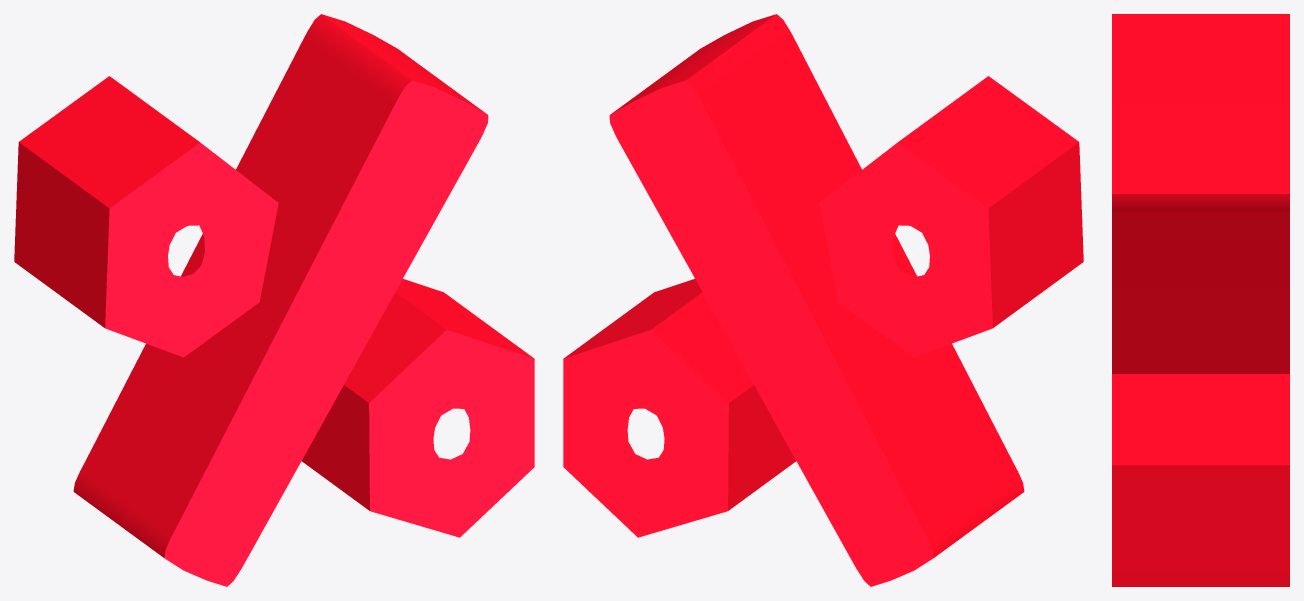
File: 8c227ffc-9638-4594-9116-ac35d3e603d8.glb
3 renders of one model, left to right at view 1: azimuth 30°, elevation 25°; view 2: azimuth 150°, elevation 25°; view 3: azimuth 270°, elevation 25°, orthographic. The views are drawn at different scales.
Parts seen in each view (by area): view 1: %_Zyzol_Red; view 2: %_Zyzol_Red; view 3: %_Zyzol_Red.
Boxes of the visible parts, x1,y1,x2,y2 form: %_Zyzol_Red: (14, 14, 534, 586); %_Zyzol_Red: (563, 14, 1083, 586); %_Zyzol_Red: (1112, 14, 1289, 586).
Size of what is drawn, in the model's own units: 0.1228 by 0.1281 by 0.045.
Materials: 2 (2 with a texture image).
